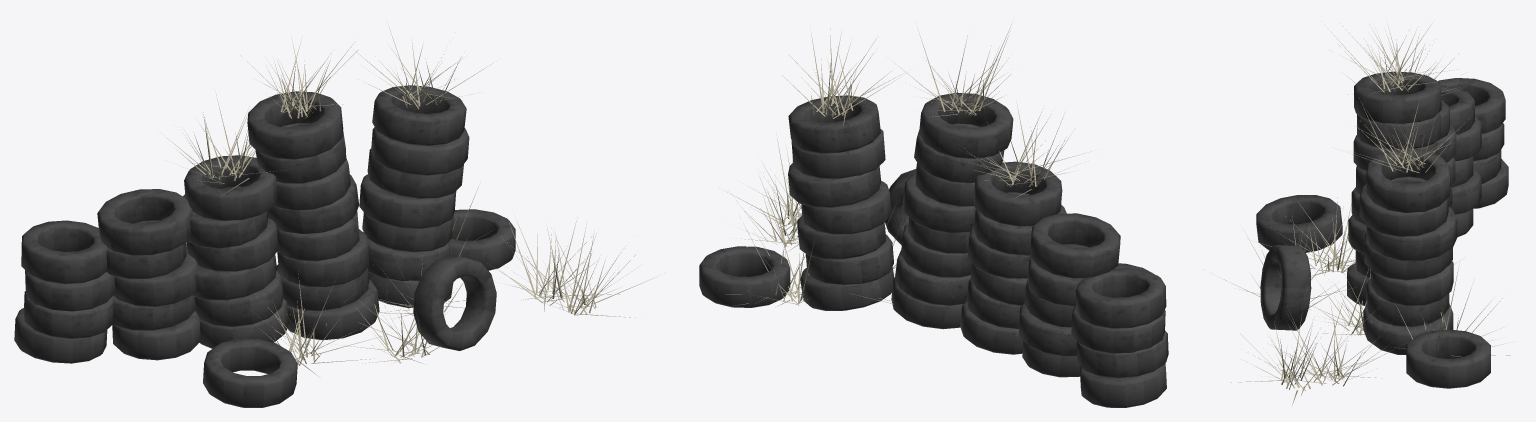
Rendered from BC2_TYRES01.glb.
The picture shows the model from 3 angles, left to right: view 1: azimuth 30°, elevation 25°; view 2: azimuth 150°, elevation 25°; view 3: azimuth 270°, elevation 25°; orthographic projection. The views are drawn at different scales.
Visible parts, largest first — view 1: BC2_TYRES01_rubber, BC2_TYRES01_grass; view 2: BC2_TYRES01_rubber, BC2_TYRES01_grass; view 3: BC2_TYRES01_rubber, BC2_TYRES01_grass.
Boxes of the visible parts, bbox=[...] form: BC2_TYRES01_rubber: bbox=[14, 85, 515, 407]; BC2_TYRES01_grass: bbox=[160, 28, 664, 376]; BC2_TYRES01_rubber: bbox=[699, 92, 1168, 407]; BC2_TYRES01_grass: bbox=[724, 24, 1090, 312]; BC2_TYRES01_rubber: bbox=[1256, 71, 1508, 388]; BC2_TYRES01_grass: bbox=[1203, 21, 1510, 405].
Size of the model in its own units: 4.36 by 2.17 by 2.39.
2 materials, 2 textured.
